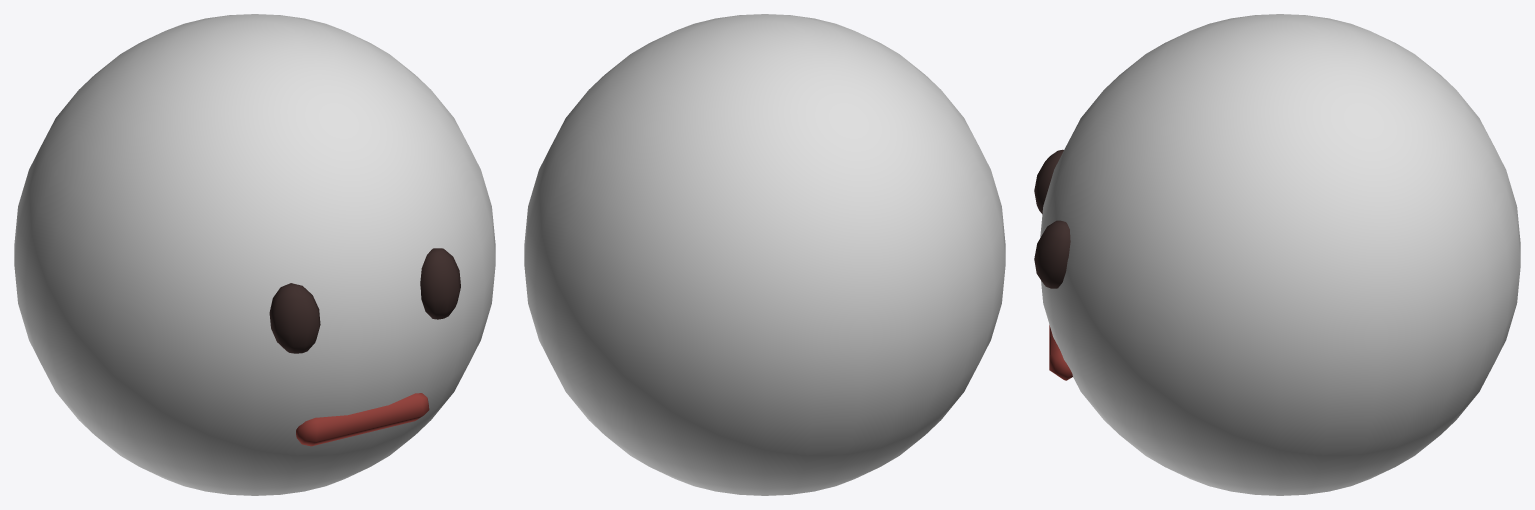
Rendered from face_neutral.glb.
The picture shows the model from 3 angles, left to right: view 1: azimuth 30°, elevation 25°; view 2: azimuth 150°, elevation 25°; view 3: azimuth 270°, elevation 25°; orthographic projection.
Parts seen in each view (by area): view 1: face_neutral; view 2: face_neutral; view 3: face_neutral.
Part boxes in pixels (box(x1,y1,x2,y2)): face_neutral: box(14, 14, 495, 495); face_neutral: box(524, 14, 1005, 495); face_neutral: box(1034, 14, 1520, 495).
Bounding box in the file's own units: 1 × 1 × 1.01.
